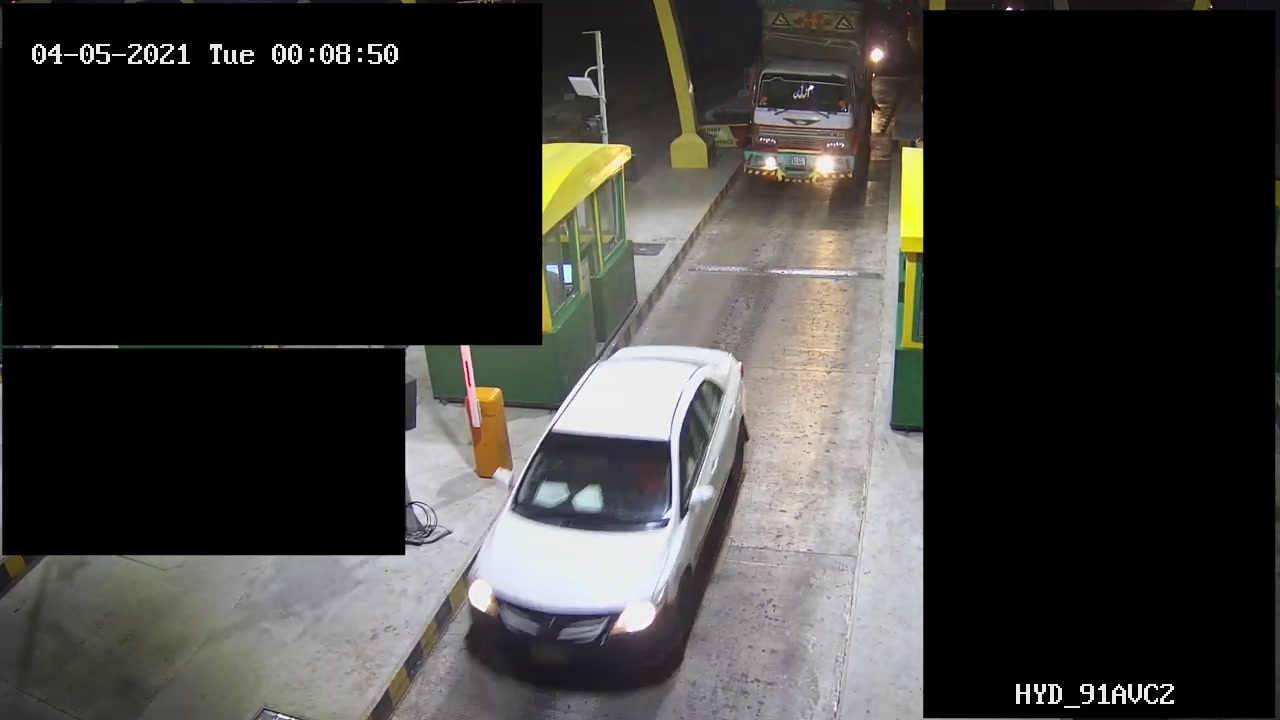F1: (460, 349, 775, 677)
